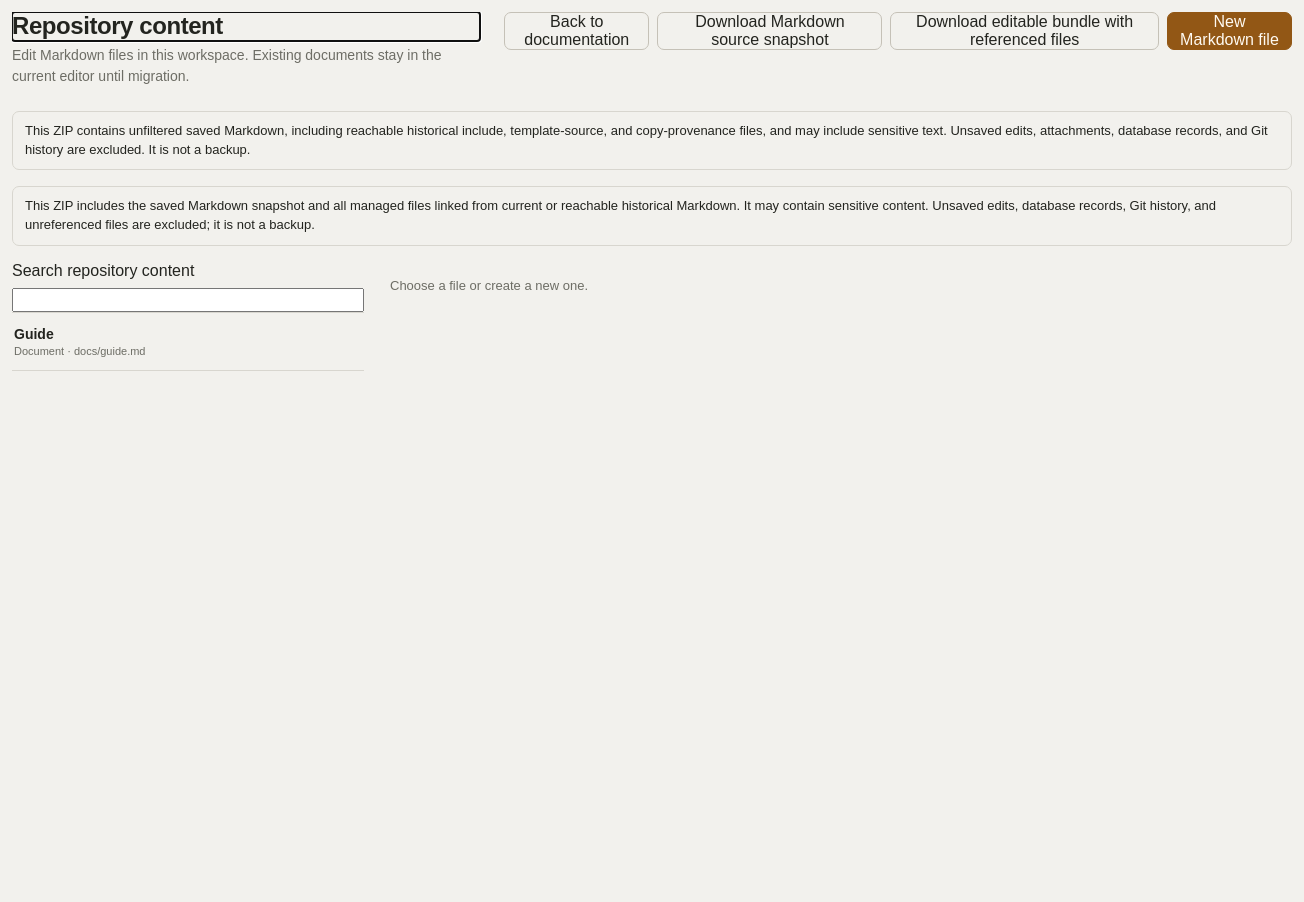
Scenario: disables attachment upload while indexing is behind the accepted revision
Click the button "Guide Document · docs/guide.md" at {"x": 34, "y": 334}, box [12,313,364,370]
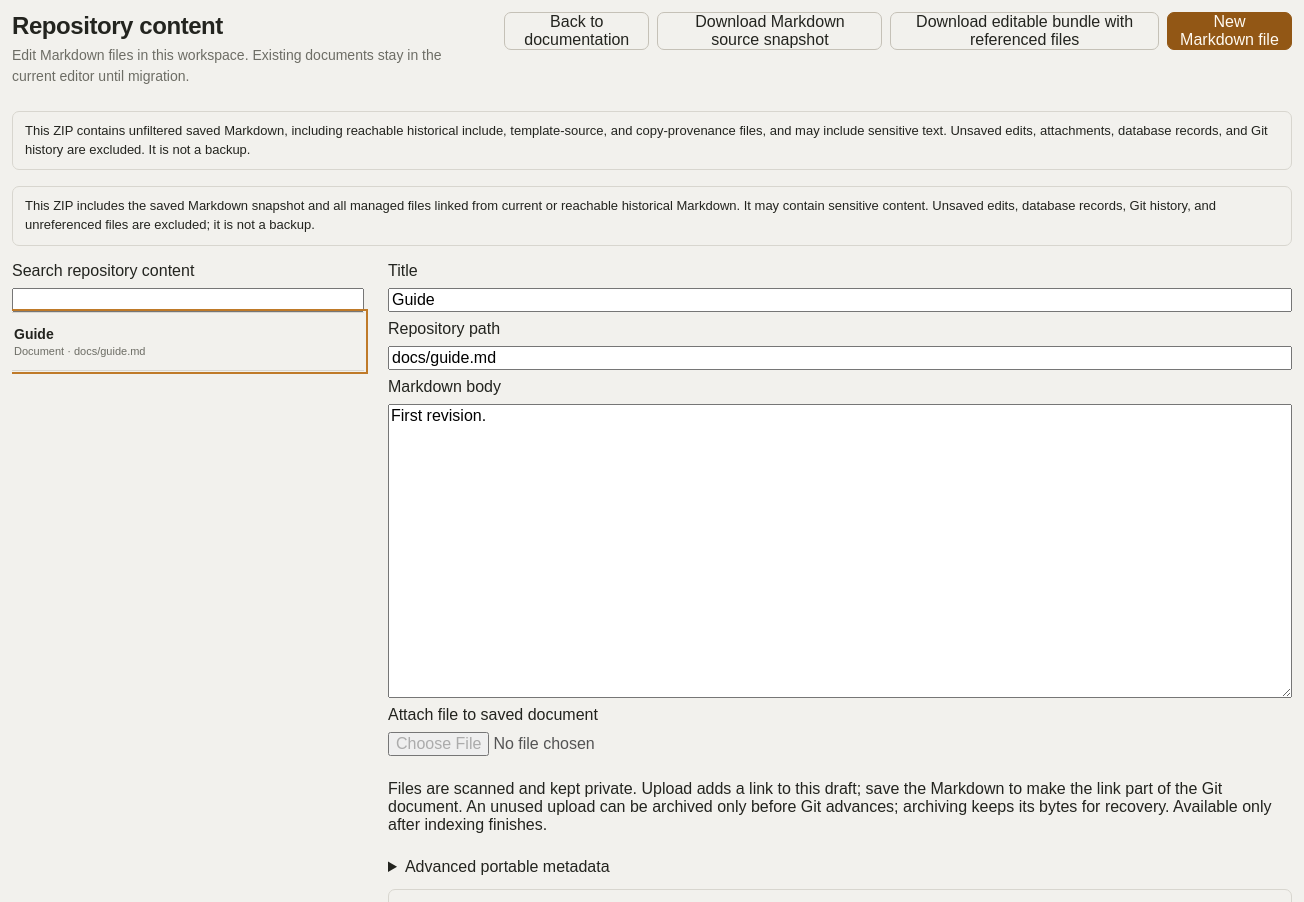
Expected: the file field labelled "Attach file to saved document" is disabled, [388,732,1292,756]
